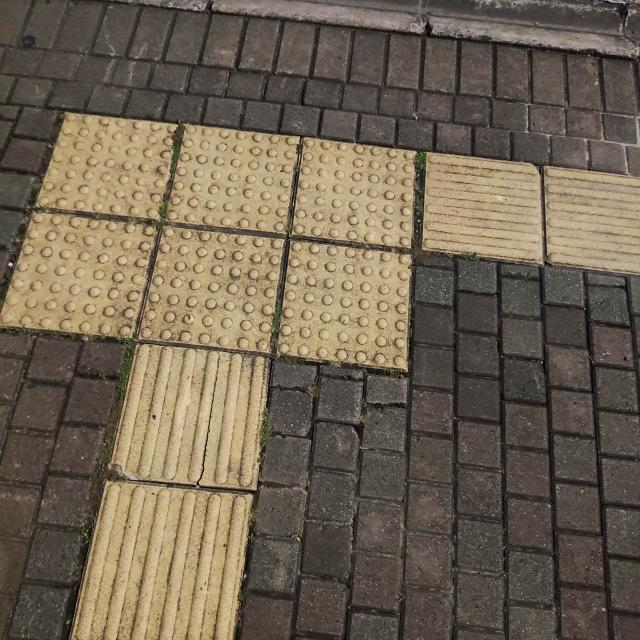kanan: (109, 89, 599, 442)
